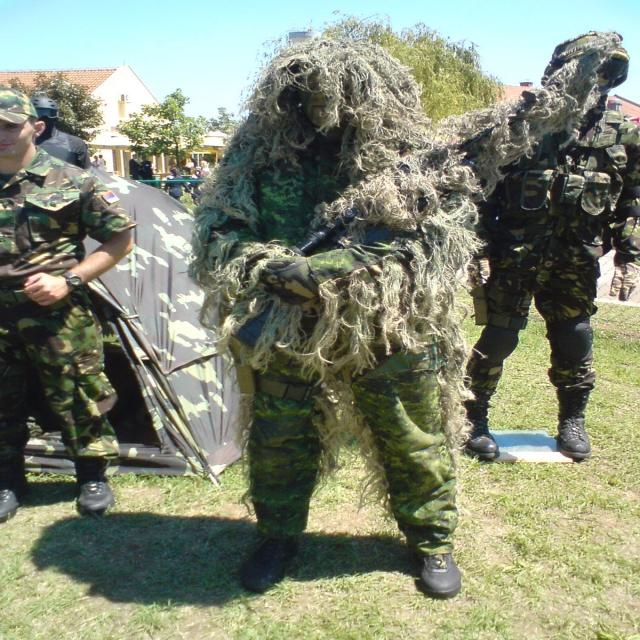Camouflage: (186, 40, 537, 600)
Human: (457, 33, 640, 467), (1, 91, 135, 524)
